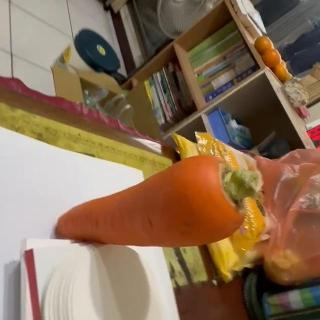carrot: (56, 154, 260, 248)
